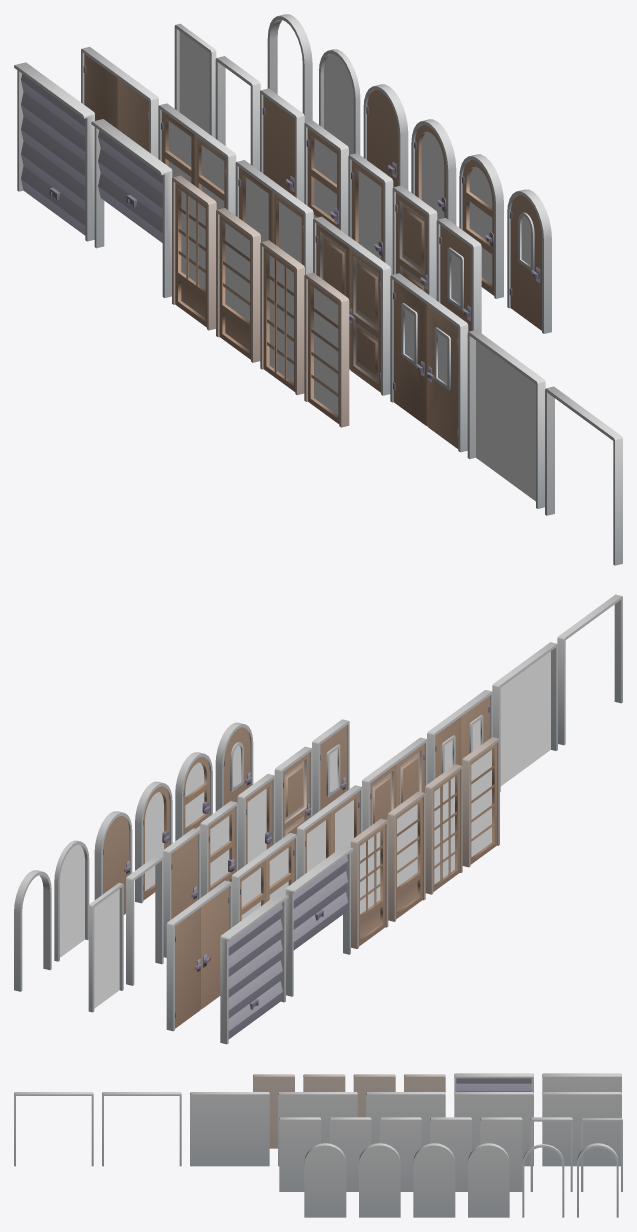
Rendered from doors.glb.
3 renders of one model, top to bottom at view 1: azimuth 30°, elevation 25°; view 2: azimuth 150°, elevation 25°; view 3: azimuth 270°, elevation 25°, orthographic. The views are drawn at different scales.
Parts seen in each view (by area): view 1: door-double-small-window (%wall), door-double-garage (%wall), door-double-cut (%wall), door-double-decorative (%wall), door-double-garage-open (%wall), door-shoji-standard-horizontal (%wall), door-shoji-panel-horizontal (%wall), door-shoji-standard (%wall), door-shoji-panel (%wall), door-rounded-small-window (%wall), door-double-glass-windows (%wall), door-double-glass (%wall) (+14 smaller); view 2: door-double-garage (%wall), door-double-basic (%wall), door-double-cut (%wall), door-double-garage-open (%wall), door-shoji-panel-horizontal (%wall), door-shoji-standard (%wall), door-shoji-panel (%wall), door-shoji-standard-horizontal (%wall), door-cut (%wall), door-rounded-cut (%wall), door-double-decorative (%wall), door-double-small-window (%wall) (+14 smaller); view 3: door-double-small-window (%wall), door-double-basic (%wall), door-rounded-glass (%wall), door-rounded-small-window (%wall), door-rounded-basic (%wall), door-rounded-glass-windows (%wall), door-double-glass-windows (%wall), door-double-glass (%wall), door-small-window (%wall), door-double-decorative (%wall), door-decorative (%wall), door-glass (%wall) (+14 smaller).
Boxes of the visible parts, bbox=[...] form: door-double-small-window (%wall): bbox=[390, 273, 468, 452]; door-double-garage (%wall): bbox=[14, 62, 94, 241]; door-double-cut (%wall): bbox=[467, 330, 545, 508]; door-double-decorative (%wall): bbox=[313, 216, 390, 395]; door-double-garage-open (%wall): bbox=[91, 119, 172, 297]; door-shoji-standard-horizontal (%wall): bbox=[304, 272, 349, 427]; door-shoji-panel-horizontal (%wall): bbox=[216, 208, 260, 362]; door-shoji-standard (%wall): bbox=[260, 240, 304, 395]; door-shoji-panel (%wall): bbox=[172, 175, 216, 330]; door-rounded-small-window (%wall): bbox=[507, 189, 551, 333]; door-double-glass-windows (%wall): bbox=[158, 103, 236, 215]; door-double-glass (%wall): bbox=[235, 160, 313, 274]; door-double-garage (%wall): bbox=[220, 893, 288, 1044]; door-double-basic (%wall): bbox=[166, 880, 232, 1031]; door-double-cut (%wall): bbox=[492, 642, 557, 791]; door-double-garage-open (%wall): bbox=[285, 846, 353, 996]; door-shoji-panel-horizontal (%wall): bbox=[387, 791, 425, 921]; door-shoji-standard (%wall): bbox=[425, 764, 462, 894]; door-shoji-panel (%wall): bbox=[350, 818, 388, 948]; door-shoji-standard-horizontal (%wall): bbox=[462, 737, 499, 867]; door-cut (%wall): bbox=[88, 882, 123, 1012]; door-rounded-cut (%wall): bbox=[54, 840, 89, 961]; door-double-decorative (%wall): bbox=[362, 737, 427, 831]; door-double-small-window (%wall): bbox=[427, 690, 492, 783]; door-double-small-window (%wall): bbox=[190, 1092, 269, 1166]; door-double-basic (%wall): bbox=[542, 1092, 621, 1166]; door-rounded-glass (%wall): bbox=[413, 1143, 455, 1217]; door-rounded-small-window (%wall): bbox=[304, 1143, 346, 1217]; door-rounded-basic (%wall): bbox=[468, 1143, 509, 1217]; door-rounded-glass-windows (%wall): bbox=[359, 1143, 400, 1217]; door-double-glass-windows (%wall): bbox=[454, 1092, 533, 1166]; door-double-glass (%wall): bbox=[366, 1092, 445, 1146]; door-small-window (%wall): bbox=[279, 1117, 320, 1191]; door-double-decorative (%wall): bbox=[278, 1092, 357, 1166]; door-decorative (%wall): bbox=[329, 1117, 371, 1191]; door-glass (%wall): bbox=[380, 1117, 421, 1191].
Bounding box in the file's own units: 4.06 × 1.9 × 14.53.
